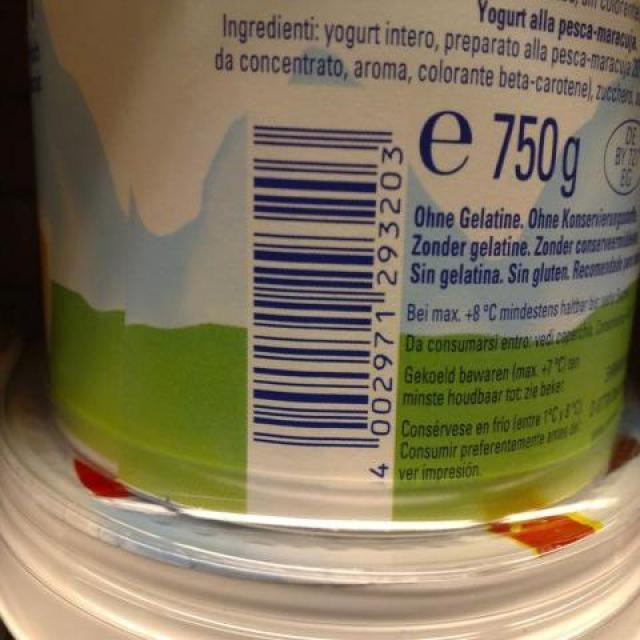Barcode: (246, 85, 409, 503)
